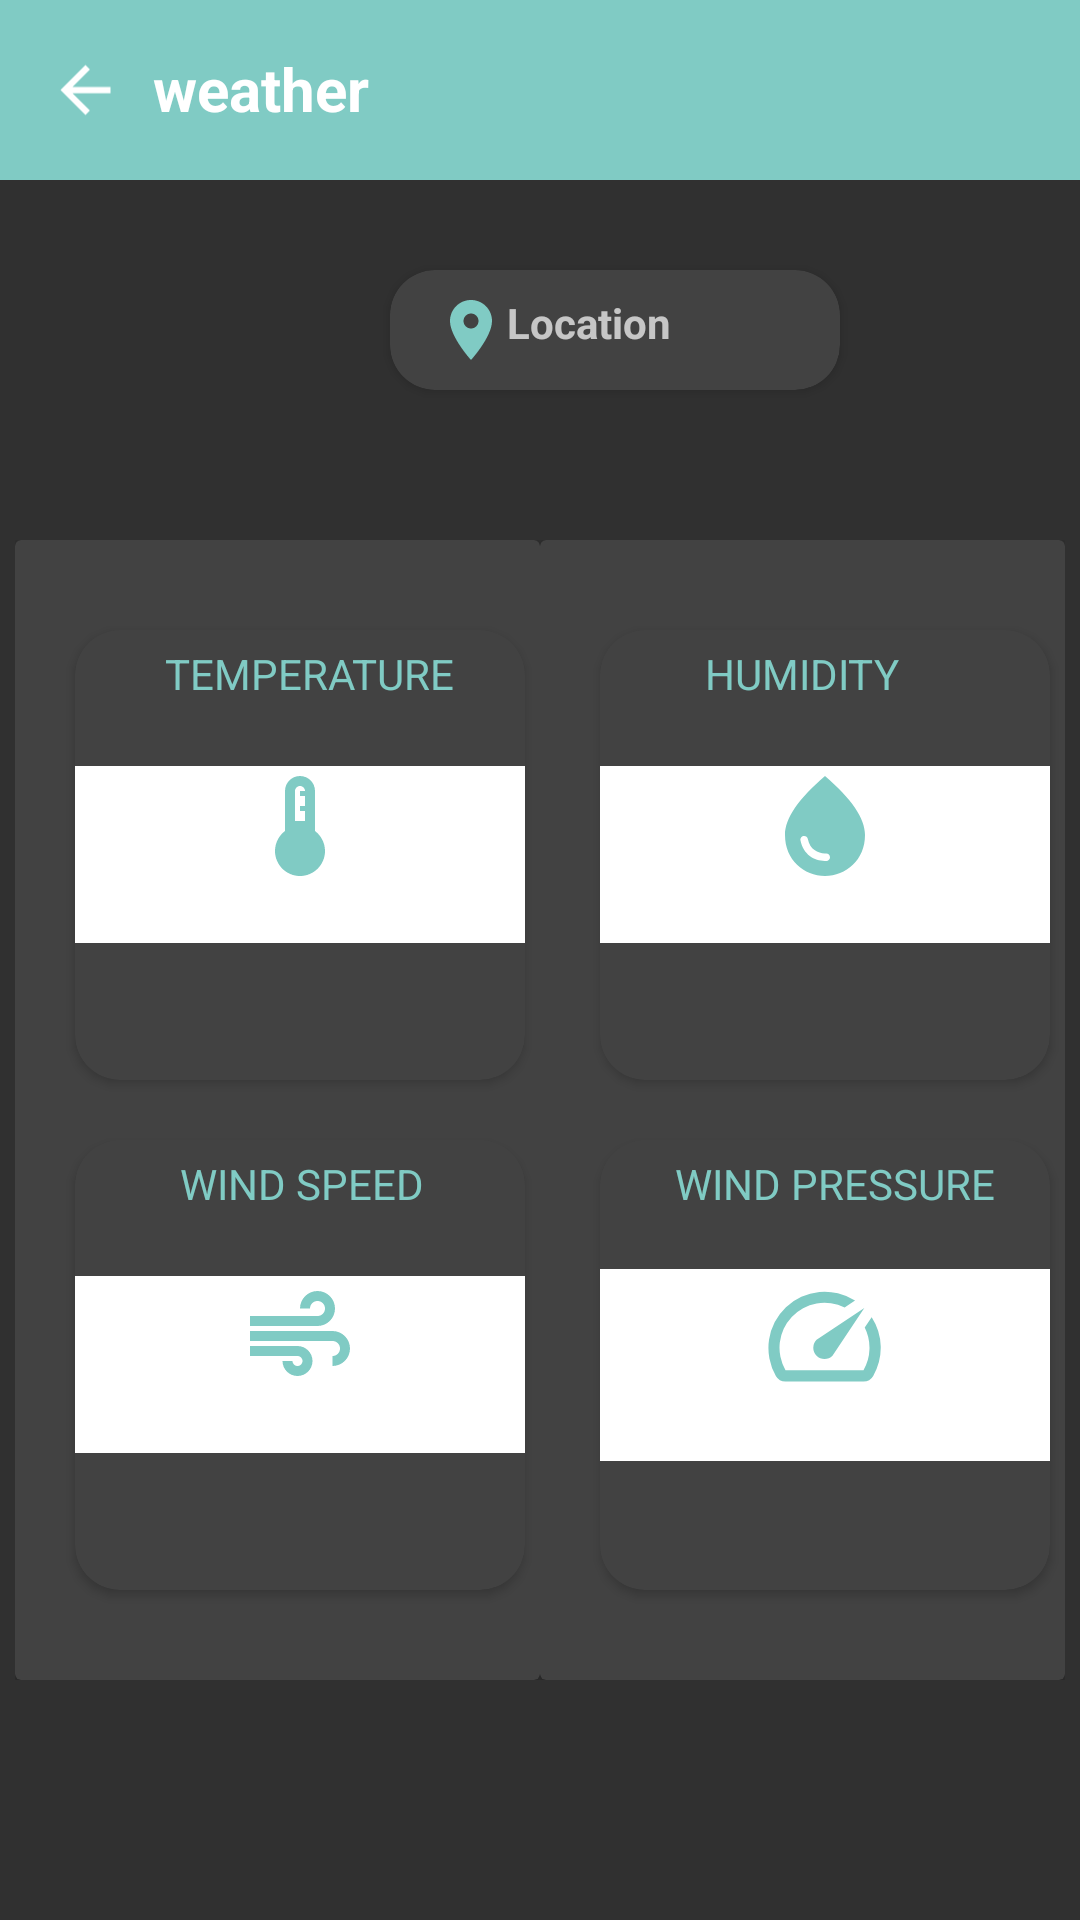

Icon bounding boxes for this 1080 x 1920 phone screenshot, format (x1, y1, x2, y2):
arrow back: (61, 65, 111, 115)
